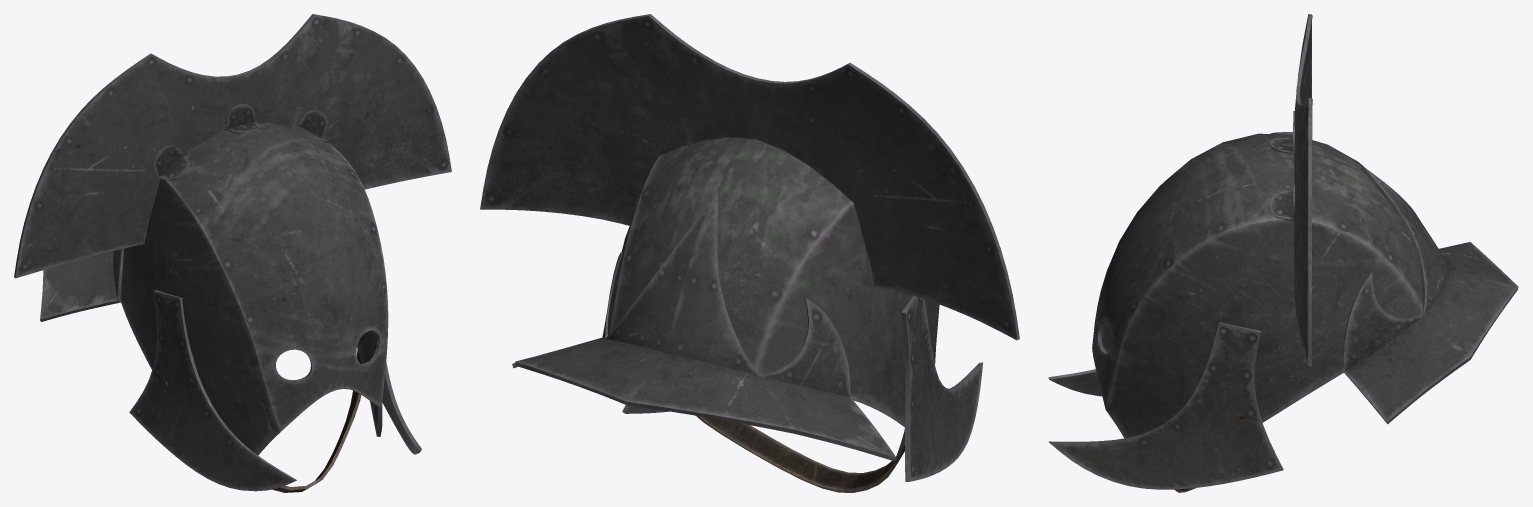
Rendered from sk_uruk_hai_helmet_captain_a4.fbx.
3 views of the same model, side by side, from view 1: azimuth 30°, elevation 25°; view 2: azimuth 150°, elevation 25°; view 3: azimuth 270°, elevation 25° (orthographic). The views are drawn at different scales.
Visible parts, largest first — view 1: sk_uruk_hai_helmet_captain_a4.0, sk_uruk_hai_helmet_captain_a4.1; view 2: sk_uruk_hai_helmet_captain_a4.0, sk_uruk_hai_helmet_captain_a4.1; view 3: sk_uruk_hai_helmet_captain_a4.0.
Part boxes in pixels (left/top/right/bottom): sk_uruk_hai_helmet_captain_a4.0: left=14, top=14, right=451, bottom=491; sk_uruk_hai_helmet_captain_a4.1: left=164, top=348, right=361, bottom=492; sk_uruk_hai_helmet_captain_a4.0: left=480, top=14, right=1019, bottom=482; sk_uruk_hai_helmet_captain_a4.1: left=696, top=404, right=919, bottom=492; sk_uruk_hai_helmet_captain_a4.0: left=1048, top=14, right=1518, bottom=489.
Bounding box in the file's own units: 0.4049 × 0.3626 × 0.3656.
2 materials, 2 textured.
